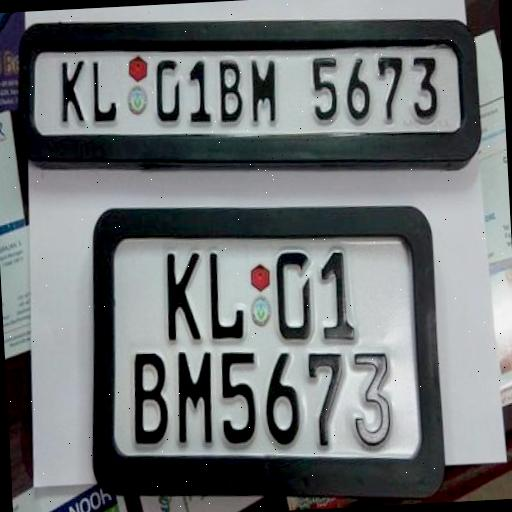number plate: (99, 214, 432, 478), (32, 31, 466, 156)
